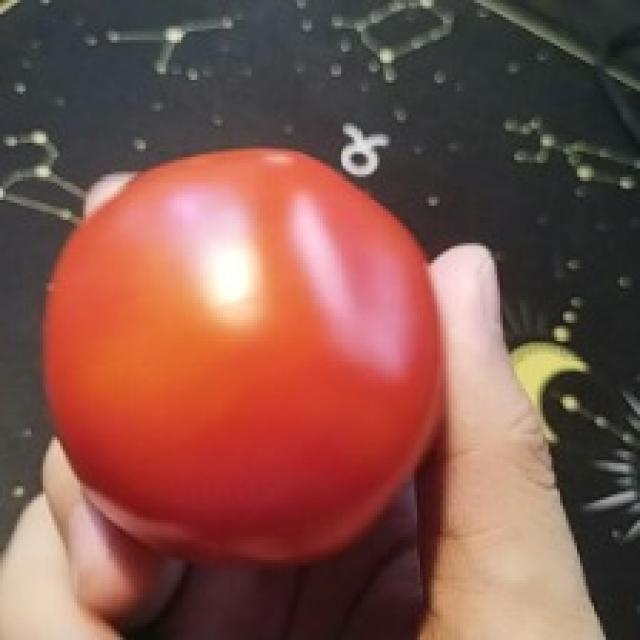Fresh Tomato: (39, 121, 452, 580)
